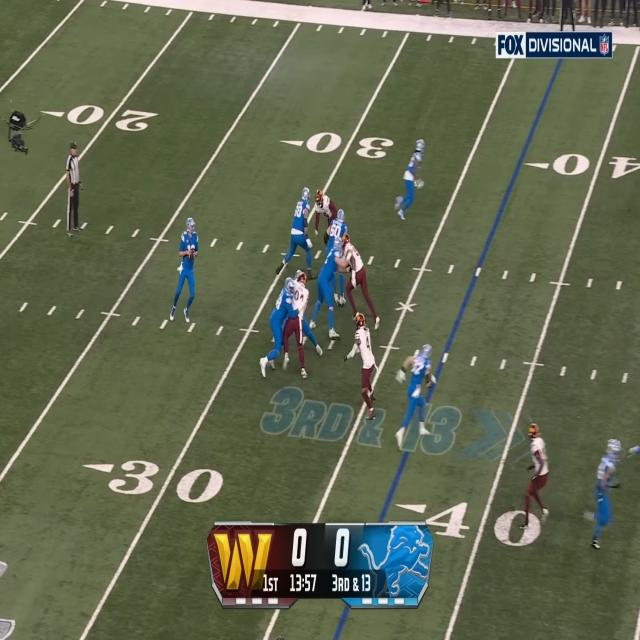Ball: (188, 248, 196, 263)
